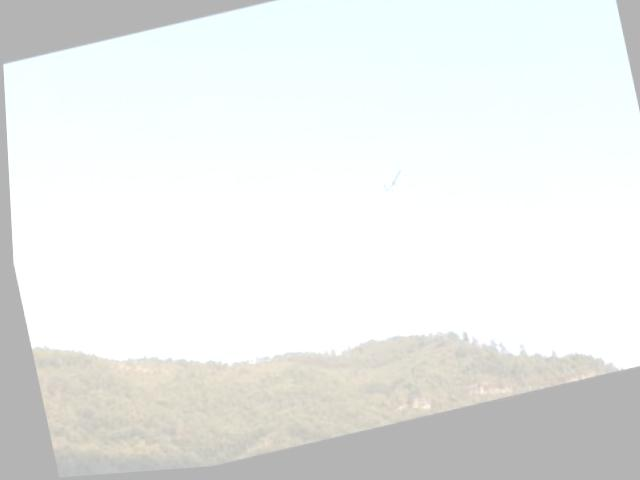uav: (368, 170, 407, 203)
